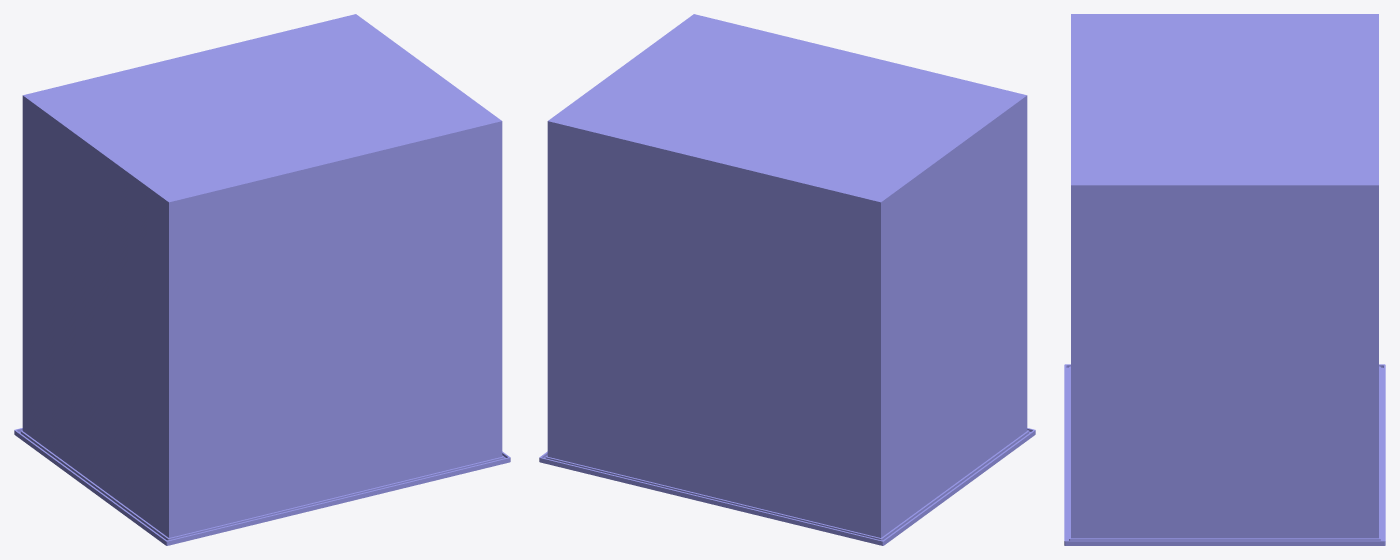
Rendered from PartBody.FBX.
3 views of the same model, side by side, from view 1: azimuth 30°, elevation 25°; view 2: azimuth 150°, elevation 25°; view 3: azimuth 270°, elevation 25° (orthographic). The views are drawn at different scales.
Visible parts, largest first — view 1: PartBody; view 2: PartBody; view 3: PartBody.
Boxes of the visible parts, box(x1,y1,x2,y2) form: PartBody: box(14, 14, 510, 545); PartBody: box(539, 14, 1035, 545); PartBody: box(1064, 14, 1385, 545).
Bounding box in the file's own units: 318 × 244 × 300.
